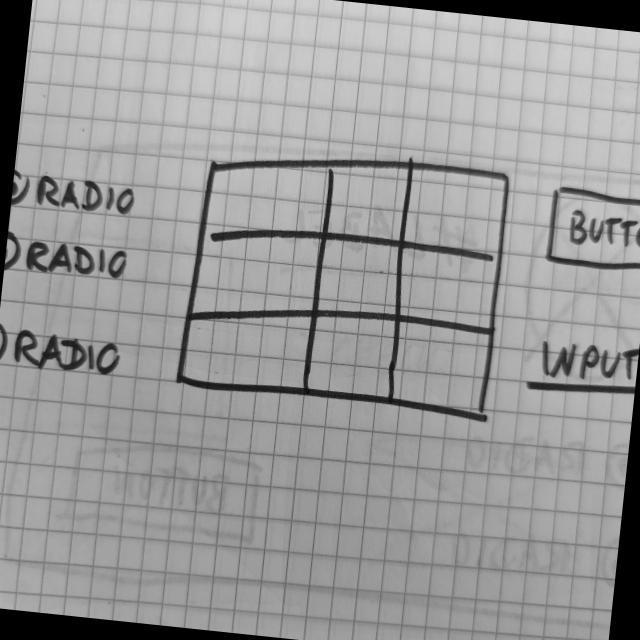button: (540, 180, 640, 278)
input: (523, 326, 640, 408)
radio: (4, 226, 135, 292), (1, 317, 128, 382), (11, 166, 140, 225)
table: (173, 136, 517, 423)
